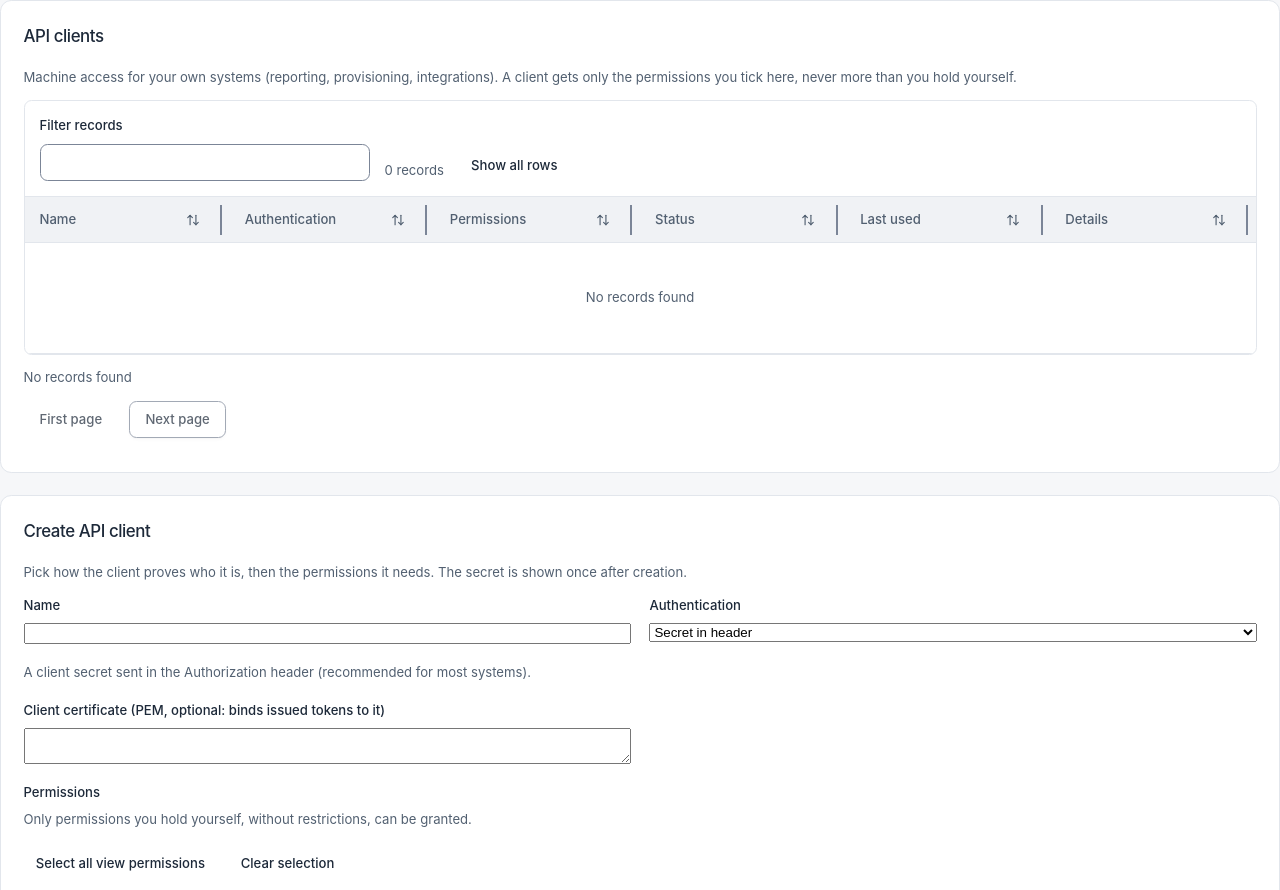
Test: copies the secret and reports when copying is blocked
This screenshot has width=1280, height=890.
Type "Export" into the field labelled "Name" at (327, 634), box [24, 623, 631, 644]
(page scrolled)
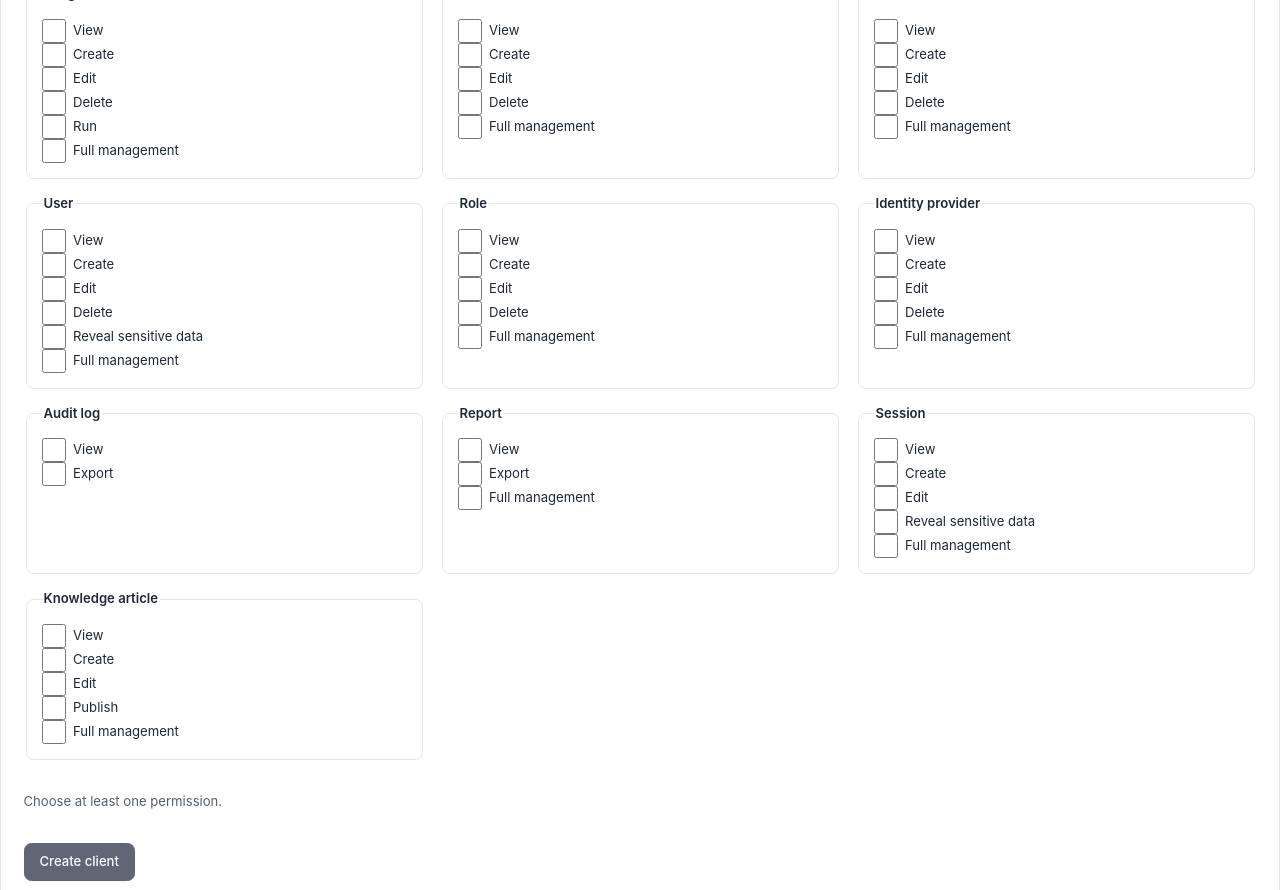
Click the 8th checkbox labelled "View" at (470, 450), box [458, 438, 482, 462]
(page scrolled)
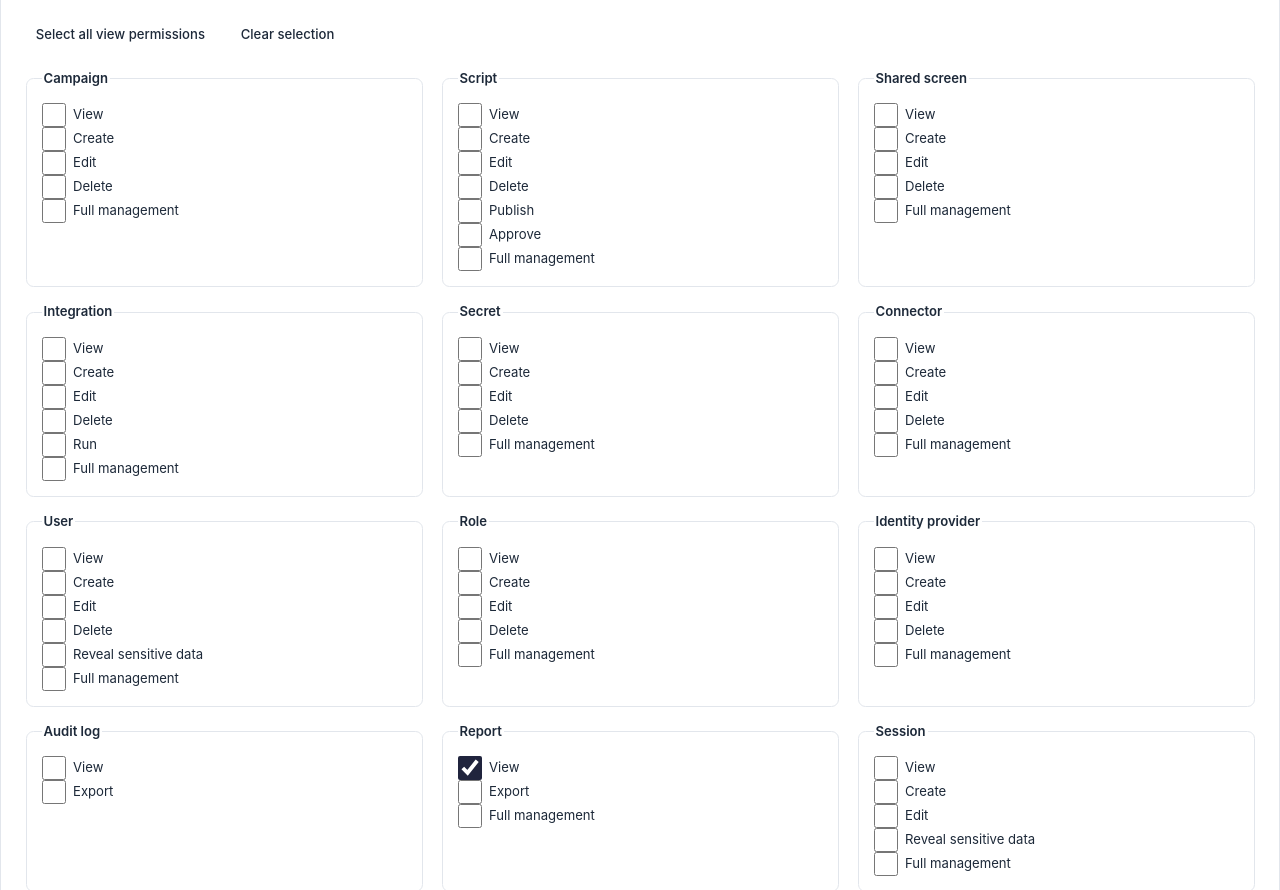
Submit the form named "Create client"
(page scrolled)
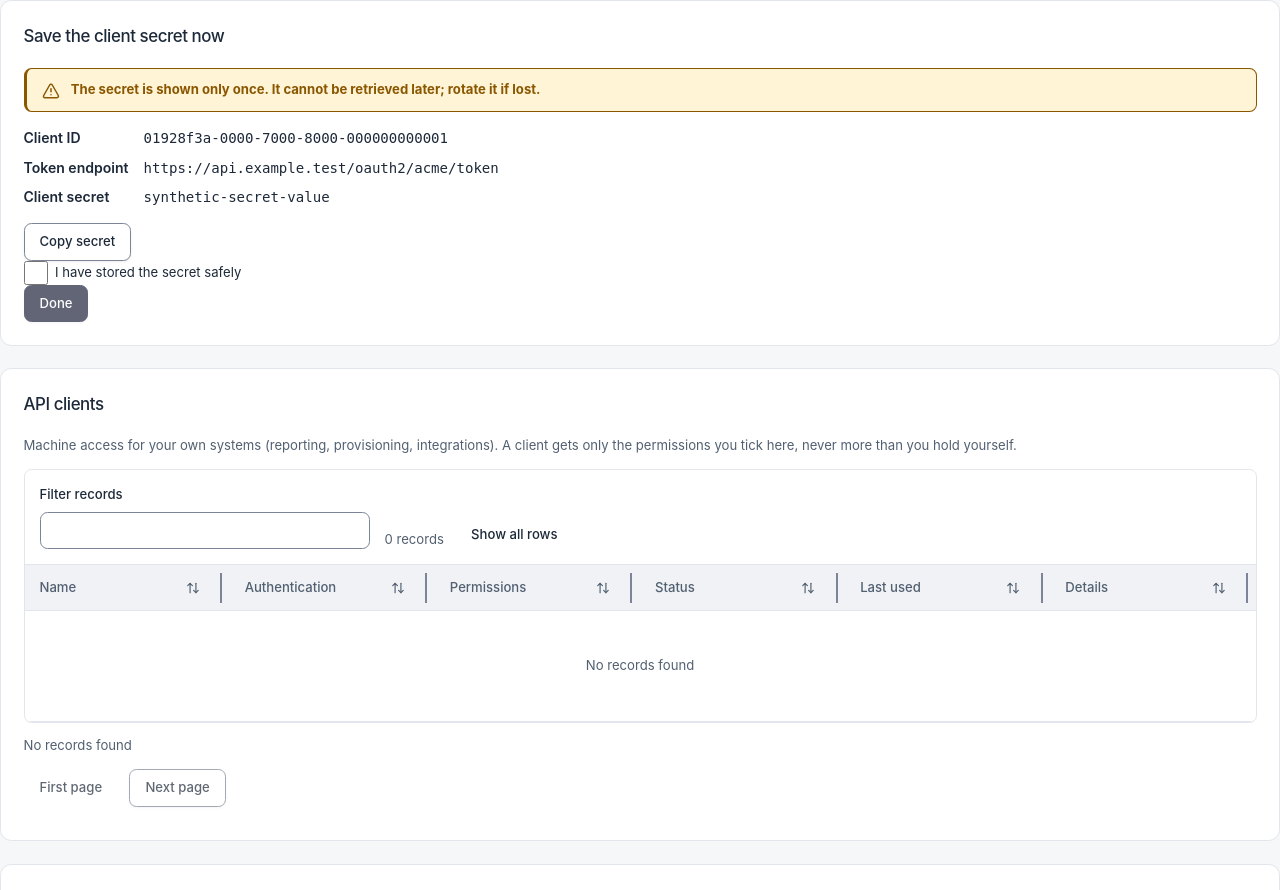
Click the button "Copy secret" at (77, 242), box [24, 223, 131, 261]
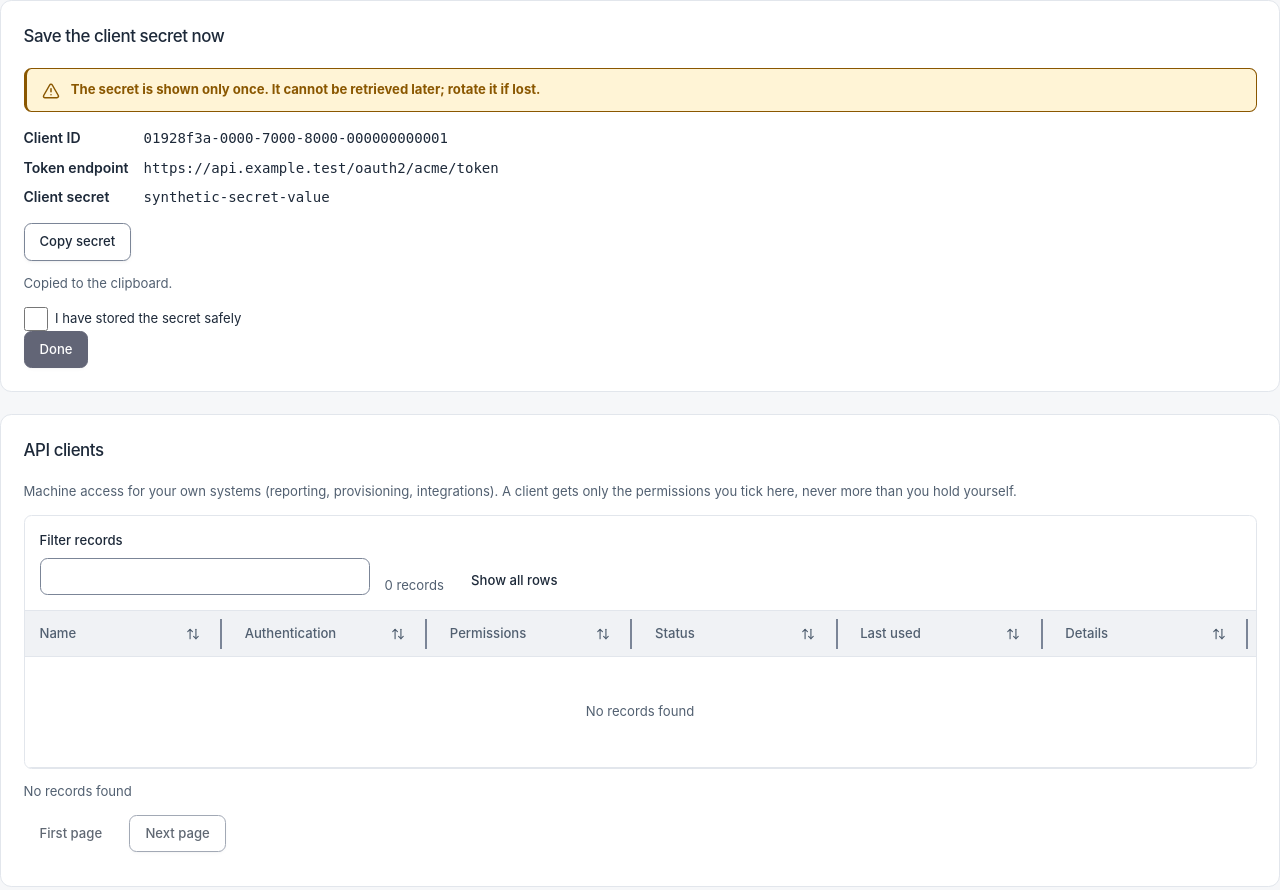
Expected: the text "Copied to the clipboard." is shown, [24, 275, 172, 291]
Click the button "Copy secret" at (77, 242), box [24, 223, 131, 261]
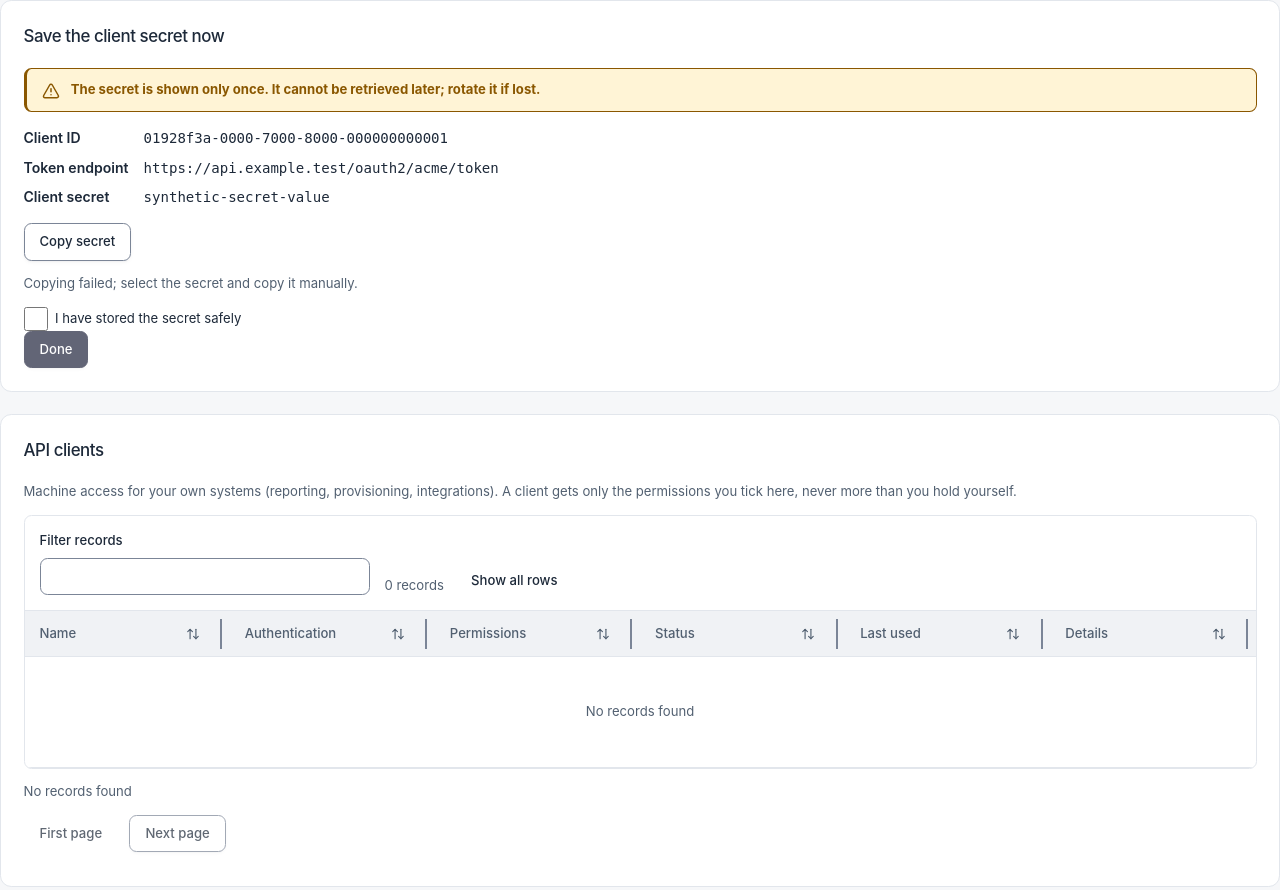
Expected: the text "Copying failed; select the secret and copy it manually." is shown, [24, 275, 358, 291]
